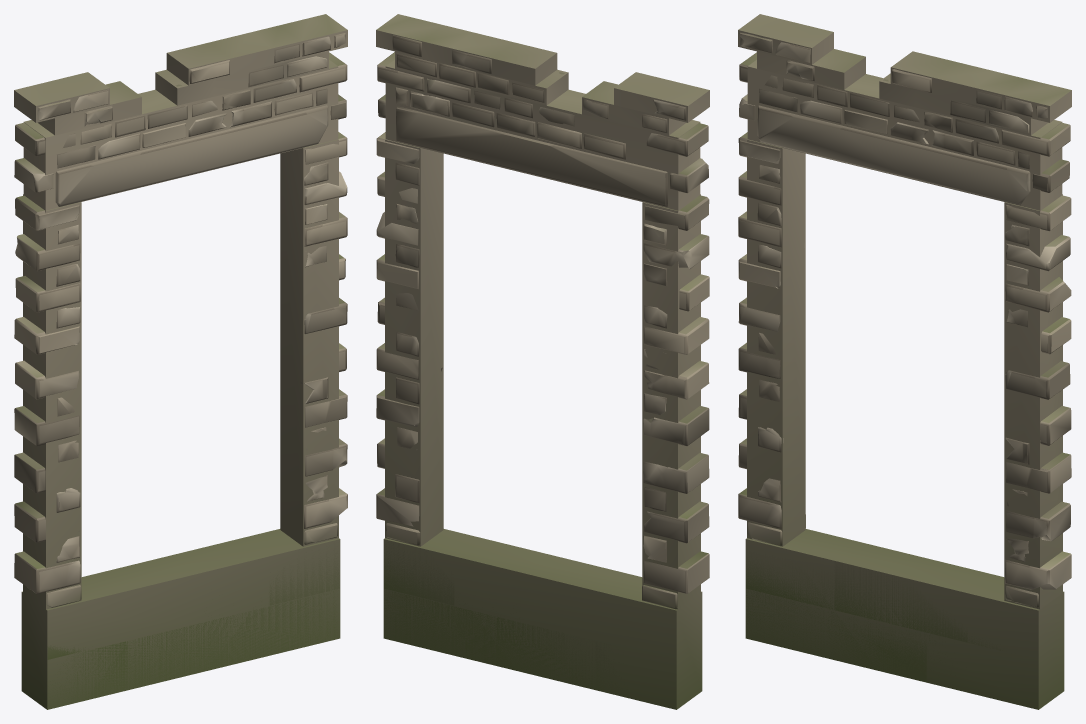
The model's file is wall_door.glb.
3 renders of one model, left to right at view 1: azimuth 30°, elevation 25°; view 2: azimuth 150°, elevation 25°; view 3: azimuth 330°, elevation 25°, orthographic.
Visible parts, largest first — view 1: wall_door_far, wall_door; view 2: wall_door_far, wall_door; view 3: wall_door_far, wall_door.
Part boxes in pixels (x1=…): wall_door_far: x1=14, y1=14, x2=347, y2=709; wall_door: x1=14, y1=33, x2=347, y2=706; wall_door_far: x1=376, y1=14, x2=709, y2=709; wall_door: x1=376, y1=35, x2=709, y2=694; wall_door_far: x1=738, y1=14, x2=1071, y2=709; wall_door: x1=738, y1=32, x2=1071, y2=682.
Size of the model in its own units: 19.7 by 36.5 by 2.8.
